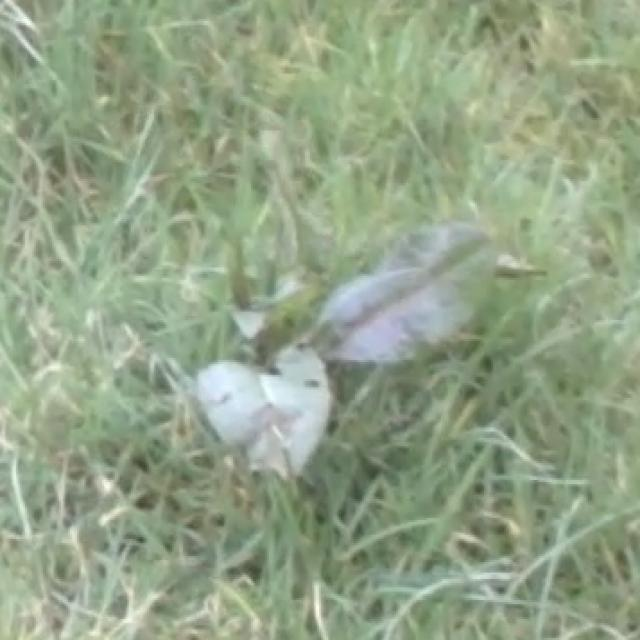organic waste: (169, 172, 525, 483)
